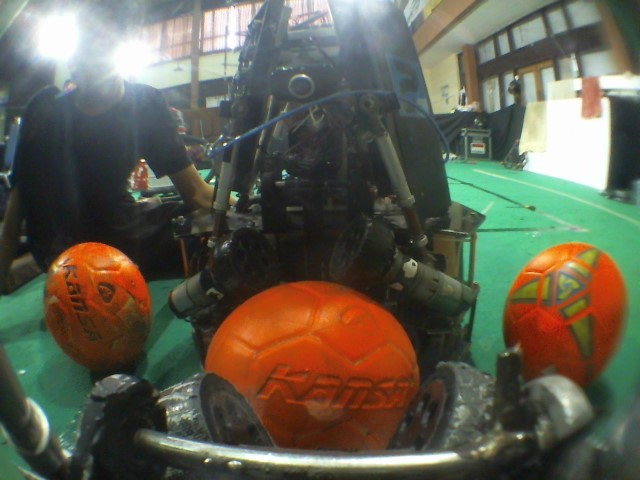ball: (195, 277, 428, 413), (499, 238, 637, 387), (39, 236, 157, 382)
